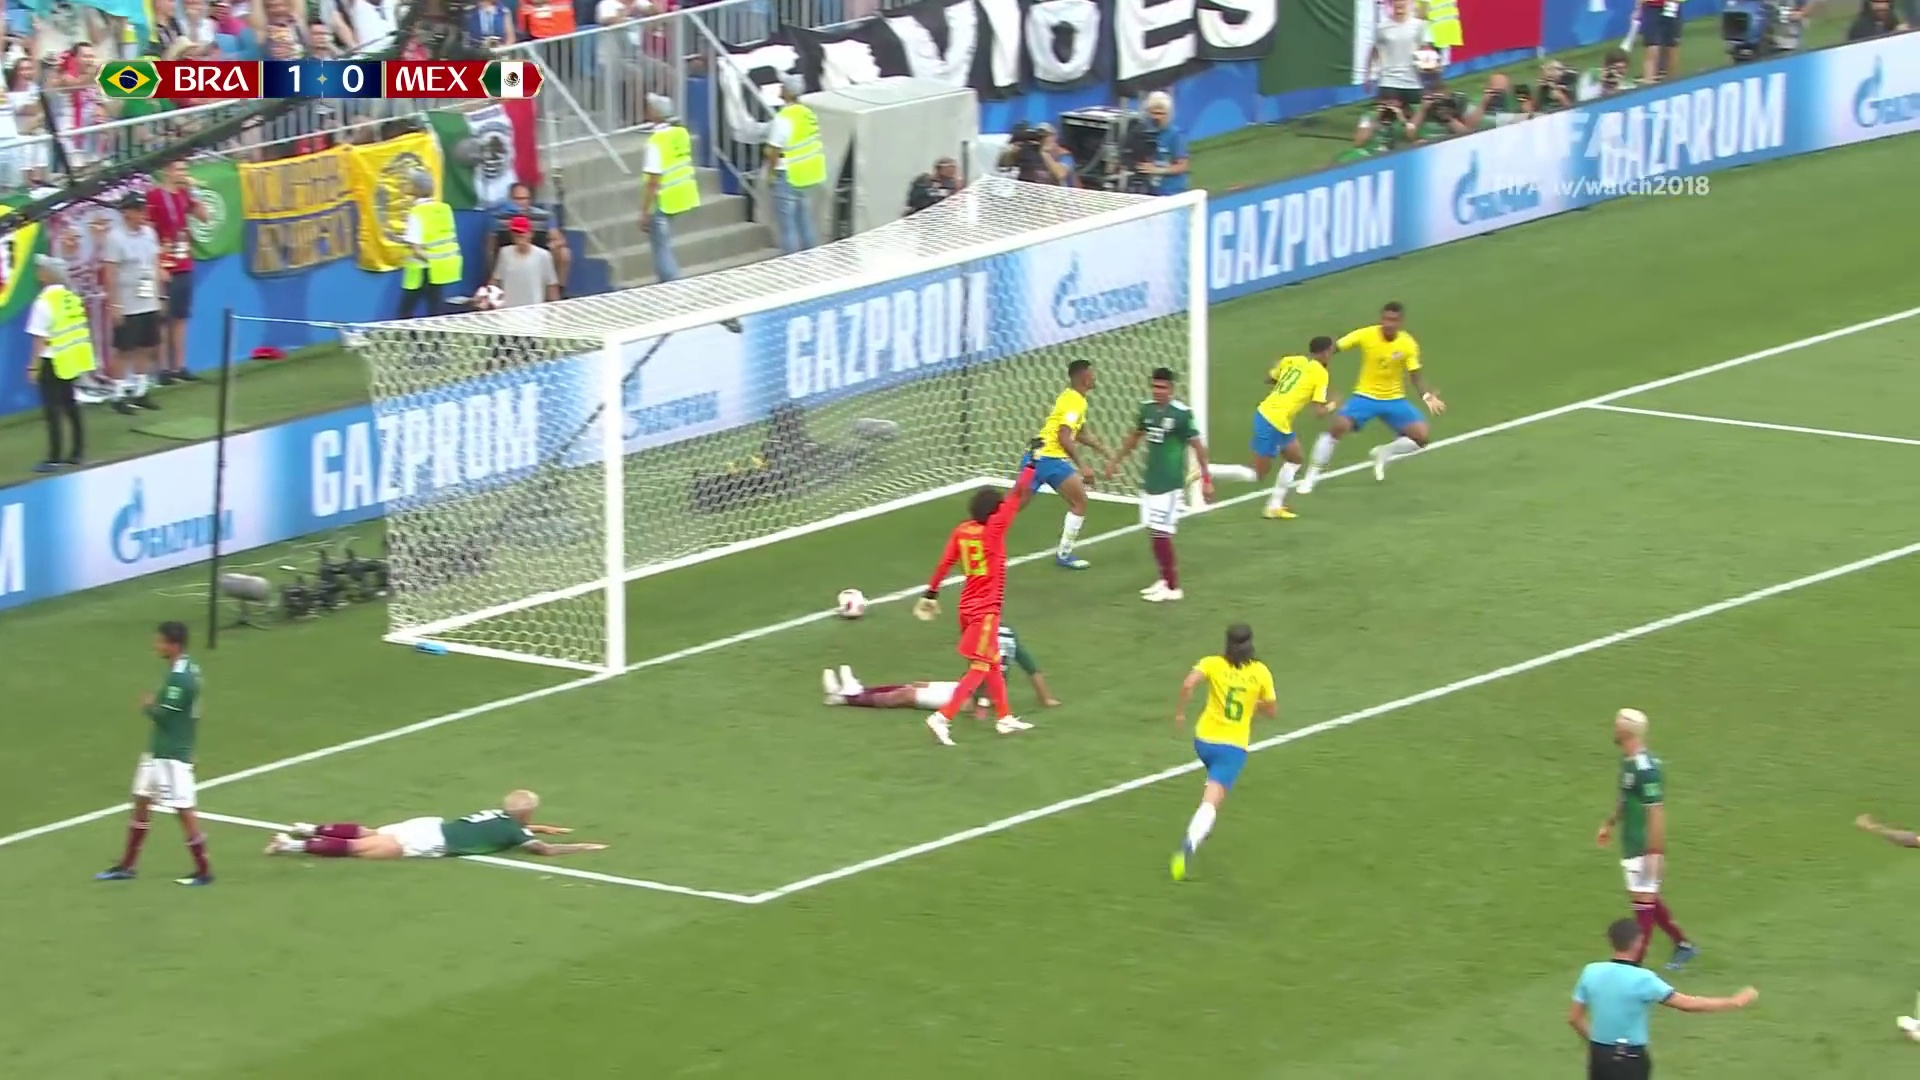ball: (837, 591, 867, 616)
person: (918, 482, 1030, 737), (111, 619, 215, 887), (1175, 621, 1280, 876), (1306, 297, 1442, 490), (1593, 707, 1692, 968), (1108, 366, 1211, 604), (812, 615, 1065, 707), (1212, 338, 1334, 521), (270, 793, 609, 856), (1014, 360, 1102, 568)
